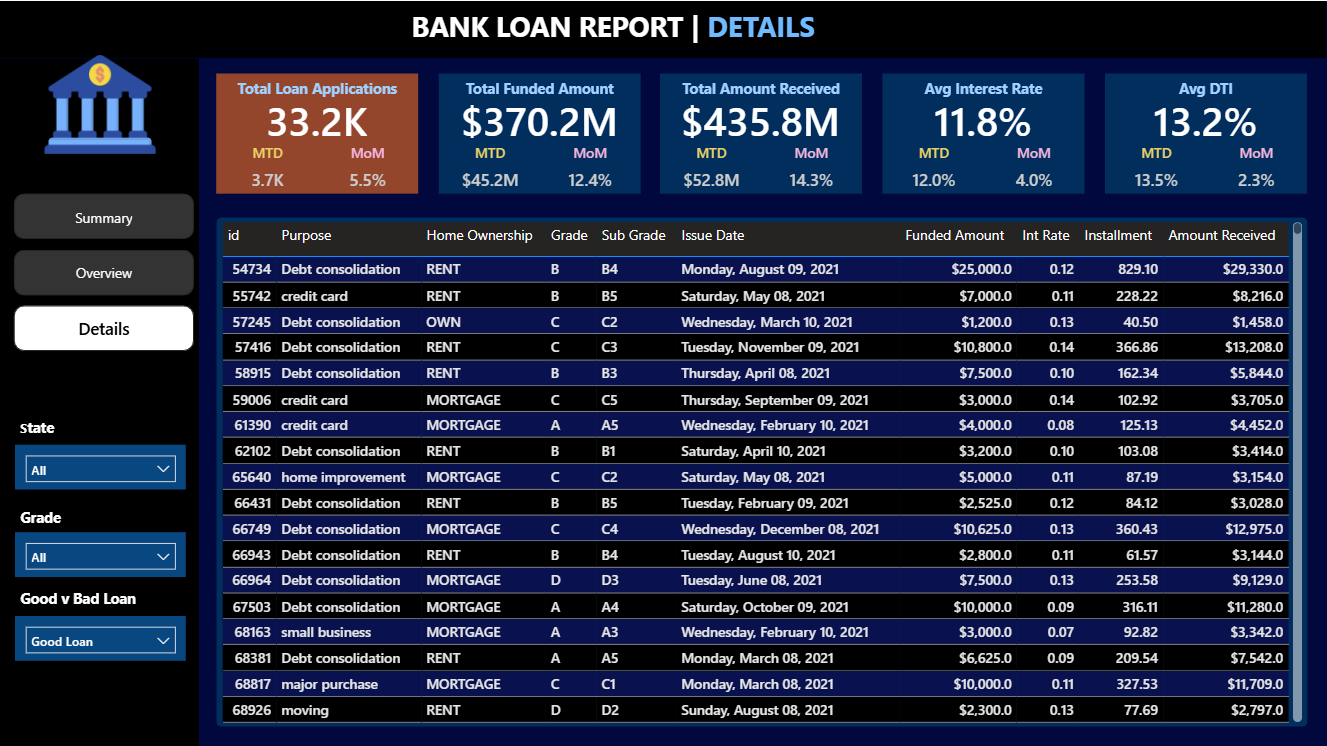

This screenshot's page, from the dashboard's own definition file:
{"tool":"powerbi","page":{"name":"Details","canvas":[1280,720],"ordinal":2},"visuals":[{"type":"shape","box":[208.4,70.4,194.9,116.4],"z":0,"group":"g1"},{"type":"shape","box":[422.9,70.4,194.9,116.4],"z":0,"group":"g2"},{"type":"shape","box":[637.4,70.4,194.9,116.4],"z":0,"group":"g3"},{"type":"shape","box":[851.9,70.4,194.9,116.4],"z":0,"group":"g4"},{"type":"shape","box":[1066.4,70.4,194.9,116.4],"z":0,"group":"g5"},{"type":"shape","box":[208.8,208.8,1053.3,491.8],"z":0},{"type":"shape","box":[0,55.5,192.2,664.5],"z":1000},{"type":"cardVisual","fields":{"Data":["bank_loan_data.Total Loan Applications"]},"box":[208.4,89.3,194.9,48.7],"z":1000,"group":"g1"},{"type":"cardVisual","fields":{"Data":["bank_loan_data.Total Funded Amount"]},"box":[422.9,89.3,194.9,48.7],"z":1000,"group":"g2"},{"type":"cardVisual","fields":{"Data":["bank_loan_data.Total Amount Received"]},"box":[637.4,89.3,194.9,48.7],"z":1000,"group":"g3"},{"type":"cardVisual","fields":{"Data":["bank_loan_data.Avg Interest Rate"]},"box":[851.9,89.3,194.9,48.7],"z":1000,"group":"g4"},{"type":"cardVisual","fields":{"Data":["bank_loan_data.Avg DTI"]},"box":[1066.4,89.3,194.9,48.7],"z":1000,"group":"g5"},{"type":"shape","box":[0,0,1280.3,54.9],"z":2000},{"type":"textbox","box":[208.4,70.4,194.9,28.4],"z":2000,"group":"g1"},{"type":"textbox","box":[422.9,70.4,194.9,28.4],"z":2000,"group":"g2"},{"type":"textbox","box":[637.4,70.4,194.9,28.4],"z":2000,"group":"g3"},{"type":"textbox","box":[851.9,70.4,194.9,28.4],"z":2000,"group":"g4"},{"type":"textbox","box":[1066.4,70.4,194.9,28.4],"z":2000,"group":"g5"},{"type":"textbox","box":[392.5,1.4,494,51.4],"z":3000},{"type":"cardVisual","title":"MTD","fields":{"Data":["bank_loan_data.MTD Loan Applications"]},"box":[222.7,137.6,70.4,48.7],"z":3000,"group":"g1"},{"type":"cardVisual","title":"MTD","fields":{"Data":["bank_loan_data.MTD Funded Amount"]},"box":[437.2,137.6,70.4,48.7],"z":3000,"group":"g2"},{"type":"cardVisual","title":"MTD","fields":{"Data":["bank_loan_data.MTD Amount Received"]},"box":[651.7,137.6,70.4,48.7],"z":3000,"group":"g3"},{"type":"cardVisual","title":"MTD","fields":{"Data":["bank_loan_data.MTD Avg Int Rate"]},"box":[866.2,137.6,70.4,48.7],"z":3000,"group":"g4"},{"type":"cardVisual","title":"MTD","fields":{"Data":["bank_loan_data.MTD Avg DTI"]},"box":[1080.7,137.6,70.4,48.7],"z":3000,"group":"g5"},{"type":"group","id":"g1","title":"Group 1","box":[208.4,70.4,194.9,116.4],"z":4000},{"type":"cardVisual","title":"MoM","fields":{"Data":["bank_loan_data.Mom Loan Applications"]},"box":[318.8,137.6,70.4,48.7],"z":4000,"group":"g1"},{"type":"cardVisual","title":"MoM","fields":{"Data":["bank_loan_data.Mom Total Funded Amount"]},"box":[533.3,137.6,70.4,48.7],"z":4000,"group":"g2"},{"type":"cardVisual","title":"MoM","fields":{"Data":["bank_loan_data.MoM Total Amount Received"]},"box":[747.8,137.6,70.4,48.7],"z":4000,"group":"g3"},{"type":"cardVisual","title":"MoM","fields":{"Data":["bank_loan_data.MoM Avg Int Rate"]},"box":[962.3,137.6,70.4,48.7],"z":4000,"group":"g4"},{"type":"cardVisual","title":"MoM","fields":{"Data":["bank_loan_data.MoM Avg DTI"]},"box":[1176.8,137.6,70.4,48.7],"z":4000,"group":"g5"},{"type":"group","id":"g2","title":"Group 1","box":[422.9,70.4,194.9,116.4],"z":5000},{"type":"group","id":"g3","title":"Group 1","box":[637.4,70.4,194.9,116.4],"z":6000},{"type":"group","id":"g4","title":"Group 1","box":[851.9,70.4,194.9,116.4],"z":7000},{"type":"group","id":"g5","title":"Group 1","box":[1066.4,70.4,194.9,116.4],"z":8000},{"type":"slicer","fields":{"Values":["bank_loan_data.address_state"]},"box":[14.7,428.3,165.1,43.3],"z":9000},{"type":"textbox","box":[14.7,397.2,73.1,31.1],"z":10000},{"type":"slicer","fields":{"Values":["bank_loan_data.grade"]},"box":[14.7,512.2,165.1,43.3],"z":11000},{"type":"textbox","box":[14.7,483.8,73.1,28.4],"z":12000},{"type":"slicer","fields":{"Values":["bank_loan_data.Good v Bad Loan"]},"box":[14.7,593.4,165.1,43.3],"z":13000},{"type":"textbox","box":[14.8,562.4,148.3,31.8],"z":14000},{"type":"tableEx","fields":{"Values":["bank_loan_data.id","bank_loan_data.purpose","bank_loan_data.home_ownership","bank_loan_data.grade","bank_loan_data.sub_grade","bank_loan_data.issue_date","bank_loan_data.Total Funded Amount","Sum(bank_loan_data.int_rate)","Sum(bank_loan_data.installment)","bank_loan_data.Total Amount Received"]},"box":[208.8,208.8,1053.3,491.8],"z":15000},{"type":"image","box":[33.3,42.4,125.6,115],"z":16000},{"type":"pageNavigator","box":[13.5,185.4,174.6,154.3],"z":17000}]}

Visuals, with their boxes in screenshot pixels (x1, y1, x2, y2), scaled from the page's 1280x720 canvas onto the 1327x746 screenshot:
shape: [left=216, top=73, right=418, bottom=194]
shape: [left=438, top=73, right=640, bottom=194]
shape: [left=661, top=73, right=863, bottom=194]
shape: [left=883, top=73, right=1085, bottom=194]
shape: [left=1106, top=73, right=1308, bottom=194]
shape: [left=216, top=216, right=1308, bottom=726]
shape: [left=0, top=58, right=199, bottom=745]
cardVisual - bank_loan_data.Total Loan Applications: [left=216, top=93, right=418, bottom=143]
cardVisual - bank_loan_data.Total Funded Amount: [left=438, top=93, right=640, bottom=143]
cardVisual - bank_loan_data.Total Amount Received: [left=661, top=93, right=863, bottom=143]
cardVisual - bank_loan_data.Avg Interest Rate: [left=883, top=93, right=1085, bottom=143]
cardVisual - bank_loan_data.Avg DTI: [left=1106, top=93, right=1308, bottom=143]
shape: [left=0, top=0, right=1326, bottom=57]
textbox: [left=216, top=73, right=418, bottom=102]
textbox: [left=438, top=73, right=640, bottom=102]
textbox: [left=661, top=73, right=863, bottom=102]
textbox: [left=883, top=73, right=1085, bottom=102]
textbox: [left=1106, top=73, right=1308, bottom=102]
textbox: [left=407, top=1, right=919, bottom=55]
"MTD" cardVisual: [left=231, top=143, right=304, bottom=193]
"MTD" cardVisual: [left=453, top=143, right=526, bottom=193]
"MTD" cardVisual: [left=676, top=143, right=749, bottom=193]
"MTD" cardVisual: [left=898, top=143, right=971, bottom=193]
"MTD" cardVisual: [left=1120, top=143, right=1193, bottom=193]
"Group 1" group: [left=216, top=73, right=418, bottom=194]
"MoM" cardVisual: [left=331, top=143, right=403, bottom=193]
"MoM" cardVisual: [left=553, top=143, right=626, bottom=193]
"MoM" cardVisual: [left=775, top=143, right=848, bottom=193]
"MoM" cardVisual: [left=998, top=143, right=1071, bottom=193]
"MoM" cardVisual: [left=1220, top=143, right=1293, bottom=193]
"Group 1" group: [left=438, top=73, right=640, bottom=194]
"Group 1" group: [left=661, top=73, right=863, bottom=194]
"Group 1" group: [left=883, top=73, right=1085, bottom=194]
"Group 1" group: [left=1106, top=73, right=1308, bottom=194]
slicer - bank_loan_data.address_state: [left=15, top=444, right=186, bottom=489]
textbox: [left=15, top=412, right=91, bottom=444]
slicer - bank_loan_data.grade: [left=15, top=531, right=186, bottom=576]
textbox: [left=15, top=501, right=91, bottom=531]
slicer - bank_loan_data.Good v Bad Loan: [left=15, top=615, right=186, bottom=660]
textbox: [left=15, top=583, right=169, bottom=616]
tableEx - bank_loan_data.id x bank_loan_data.purpose: [left=216, top=216, right=1308, bottom=726]
image: [left=35, top=44, right=165, bottom=163]
pageNavigator: [left=14, top=192, right=195, bottom=352]
